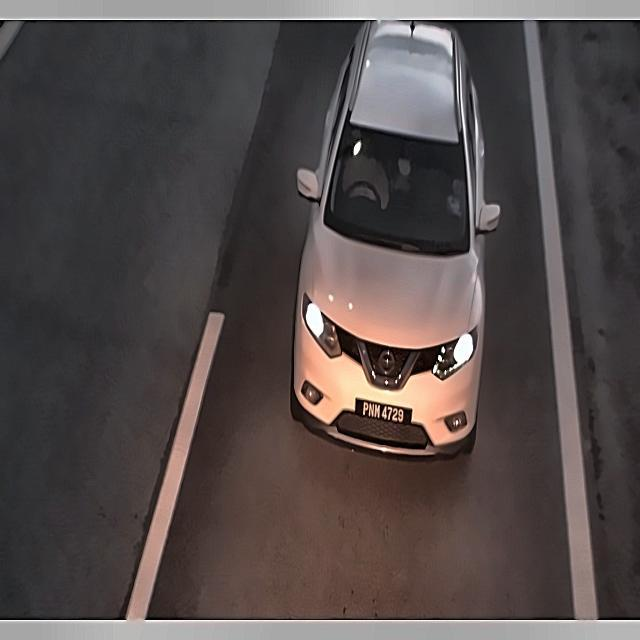car: (351, 391, 422, 435)
